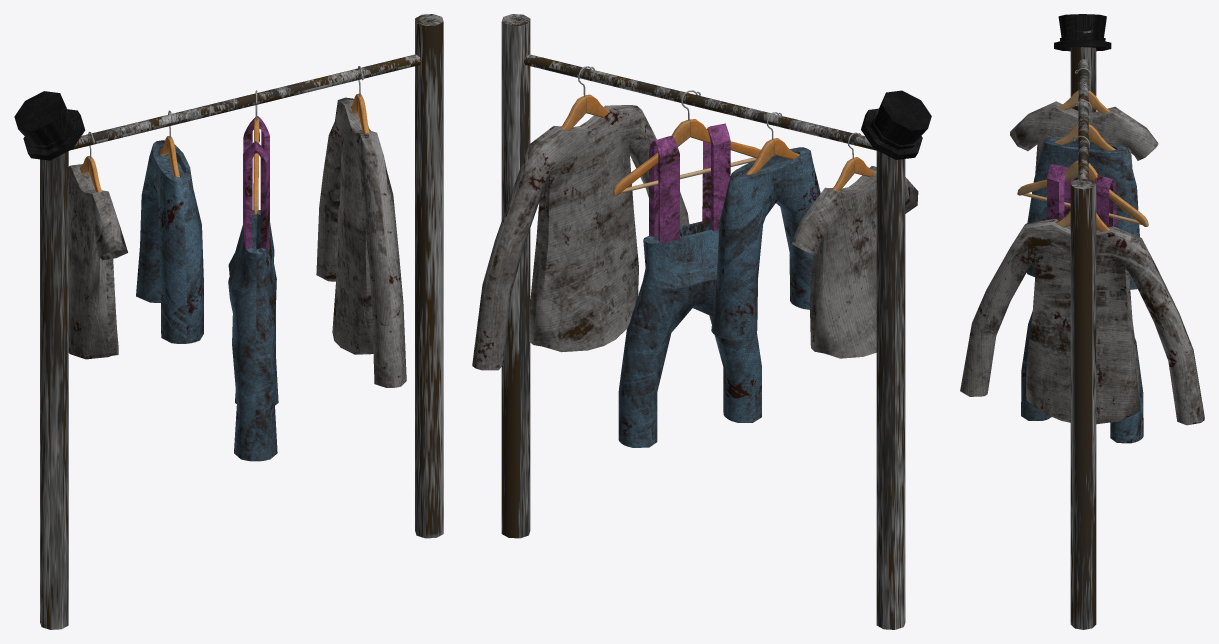
File: Ropero.fbx
3 renders of one model, left to right at view 1: azimuth 30°, elevation 25°; view 2: azimuth 150°, elevation 25°; view 3: azimuth 270°, elevation 25°, orthographic. The views are drawn at different scales.
Visible parts, largest first — view 1: Perchero, CamisaMangaLarga, Oberol, Pantalon.001, Camisa.001, Sombrero, Gancho.002; view 2: Perchero, CamisaMangaLarga, Oberol, Camisa.001, Pantalon.001, Sombrero, Gancho.002, Gancho.001, Gancho.004, Gancho.003; view 3: CamisaMangaLarga, Perchero, Camisa.001, Pantalon.001, Oberol, Sombrero, Gancho.002, Gancho.004, Gancho.003.
Part boxes in pixels (left/top/right/bottom): Perchero: left=40, top=14, right=443, bottom=629; CamisaMangaLarga: left=316, top=97, right=406, bottom=387; Oberol: left=228, top=116, right=278, bottom=461; Pantalon.001: left=136, top=140, right=203, bottom=343; Camisa.001: left=68, top=164, right=127, bottom=359; Sombrero: left=14, top=91, right=85, bottom=160; Gancho.002: left=253, top=90, right=259, bottom=214; Perchero: left=501, top=14, right=905, bottom=629; CamisaMangaLarga: left=472, top=105, right=689, bottom=370; Oberol: left=618, top=123, right=761, bottom=447; Camisa.001: left=791, top=166, right=918, bottom=358; Pantalon.001: left=711, top=147, right=820, bottom=340; Sombrero: left=861, top=90, right=931, bottom=159; Gancho.002: left=612, top=90, right=760, bottom=195; Gancho.001: left=560, top=66, right=609, bottom=129; Gancho.004: left=745, top=112, right=799, bottom=174; Gancho.003: left=832, top=132, right=874, bottom=190; CamisaMangaLarga: left=960, top=219, right=1204, bottom=425; Perchero: left=1070, top=30, right=1096, bottom=629; Camisa.001: left=1010, top=101, right=1158, bottom=173; Pantalon.001: left=1026, top=137, right=1139, bottom=289; Oberol: left=1021, top=164, right=1143, bottom=443; Sombrero: left=1054, top=14, right=1111, bottom=51; Gancho.002: left=1017, top=135, right=1148, bottom=226; Gancho.004: left=1055, top=100, right=1115, bottom=150; Gancho.003: left=1058, top=68, right=1109, bottom=113.
Bounding box in the file's own units: 463 × 552 × 269.
Materials: 7 (7 with a texture image).
